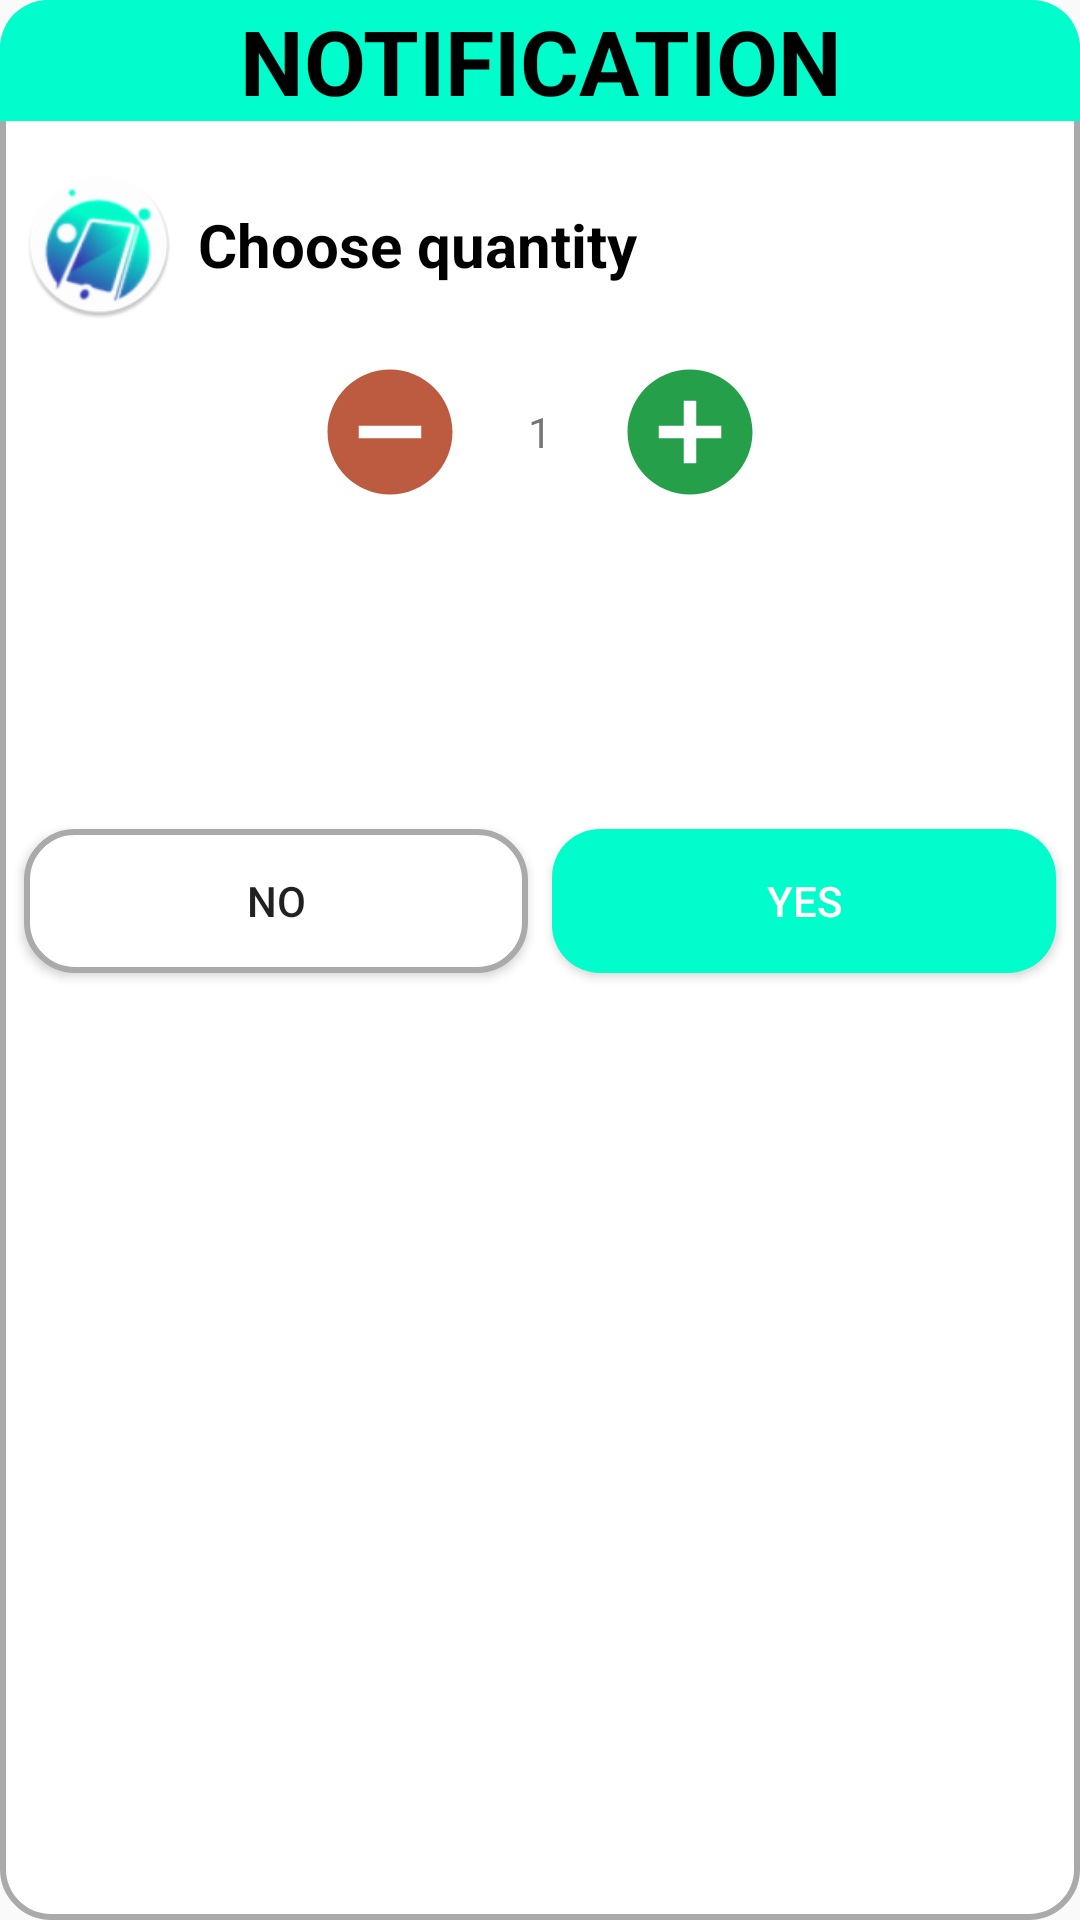

Icons on this 1080 × 1920 Android screen, each with its box as box(x1, y1, x2, y2):
add: box(627, 369, 753, 495)
remove: box(327, 369, 453, 495)
